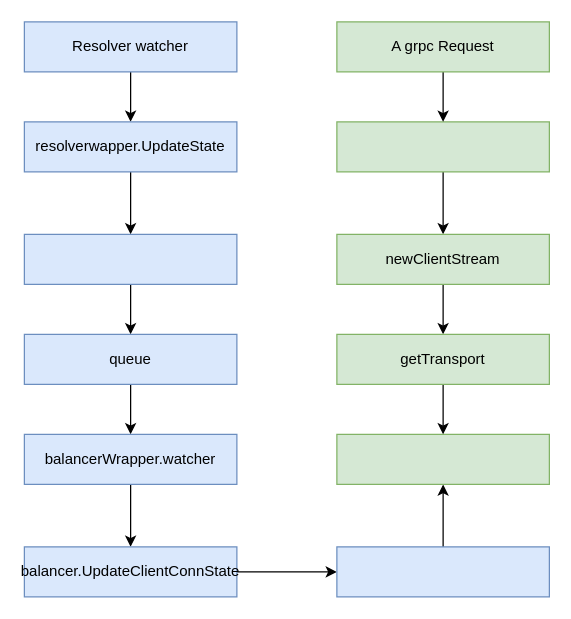
This 571x619 diagram has some shape labels left out. The centre of each missing label's shape, as x and y in pixels:
"balancer.regneratePicker" belongs at point 442,571.
"balancerWrapper. updateClientConnState" belongs at point 130,258.
"grpc.Invoke" belongs at point 442,146.
"Picker.pick" belongs at point 442,458.
